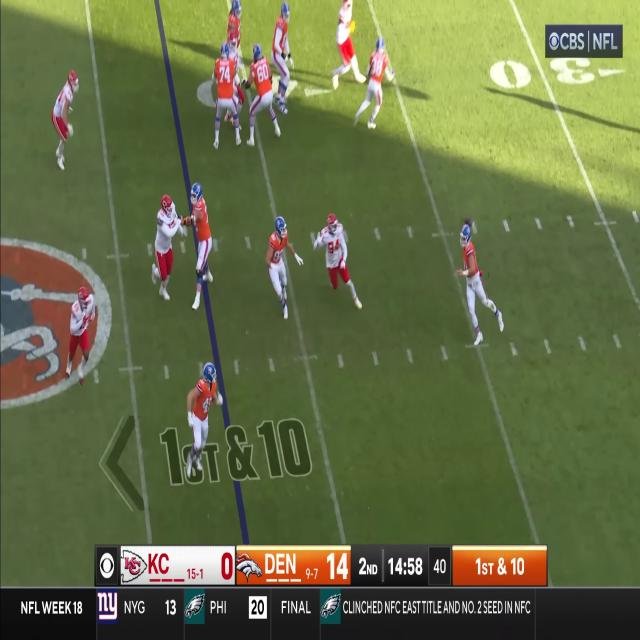Player: (183, 360, 224, 480), (458, 224, 488, 351), (322, 211, 358, 310), (151, 191, 181, 304), (188, 181, 214, 311), (359, 36, 392, 132), (51, 70, 80, 174), (265, 212, 292, 320), (66, 284, 95, 384), (271, 0, 296, 115), (332, 1, 363, 92), (248, 46, 274, 144), (216, 42, 237, 148), (229, 0, 242, 37), (228, 32, 240, 62)
